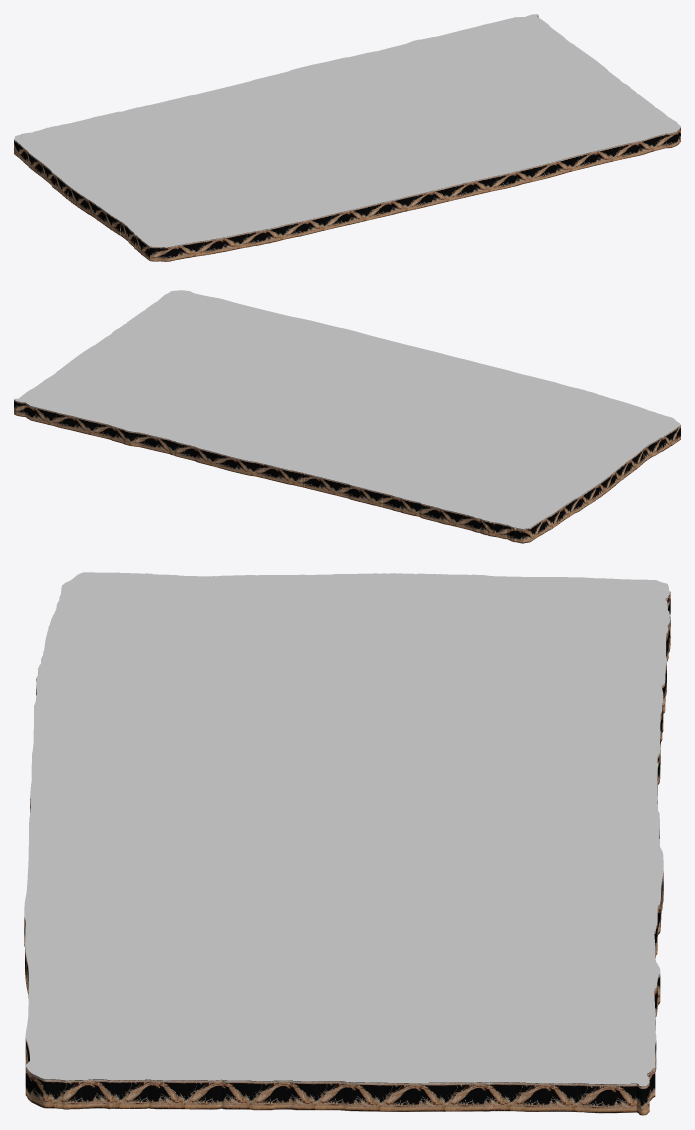
Rendered from CajaLarga.fbx.
3 views of the same model, one above another, from view 1: azimuth 30°, elevation 25°; view 2: azimuth 150°, elevation 25°; view 3: azimuth 270°, elevation 25° (orthographic). The views are drawn at different scales.
Visible parts, largest first — view 1: CajaLarga; view 2: CajaLarga; view 3: CajaLarga.
Part boxes in pixels (x1=…): CajaLarga: x1=14, y1=14, x2=680, y2=261; CajaLarga: x1=14, y1=290, x2=680, y2=543; CajaLarga: x1=24, y1=572, x2=670, y2=1115.
Bounding box in the file's own units: 3.79 × 0.1 × 2.01.
